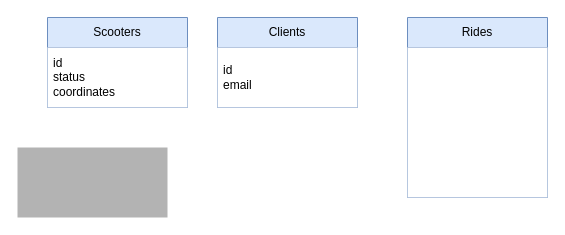
Image size: 565x235. Some labels were removed from this diagram. Here are the shapes that lost their labels. From the top down, the box of each, then its label:
(407, 47, 547, 197): id scooter_id user_id TIMESTAMP DEPOSIT FARE start_time stop_time status
(17, 147, 167, 217): scooter status: ACTIVE RIDE_IN_PROGRESS NOT_ACTIVE
